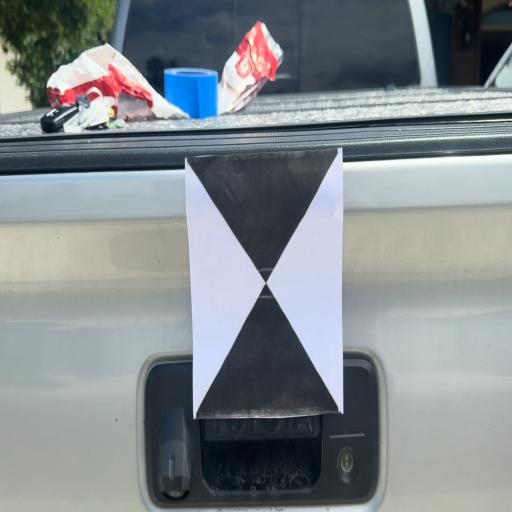target: (185, 156, 342, 412)
